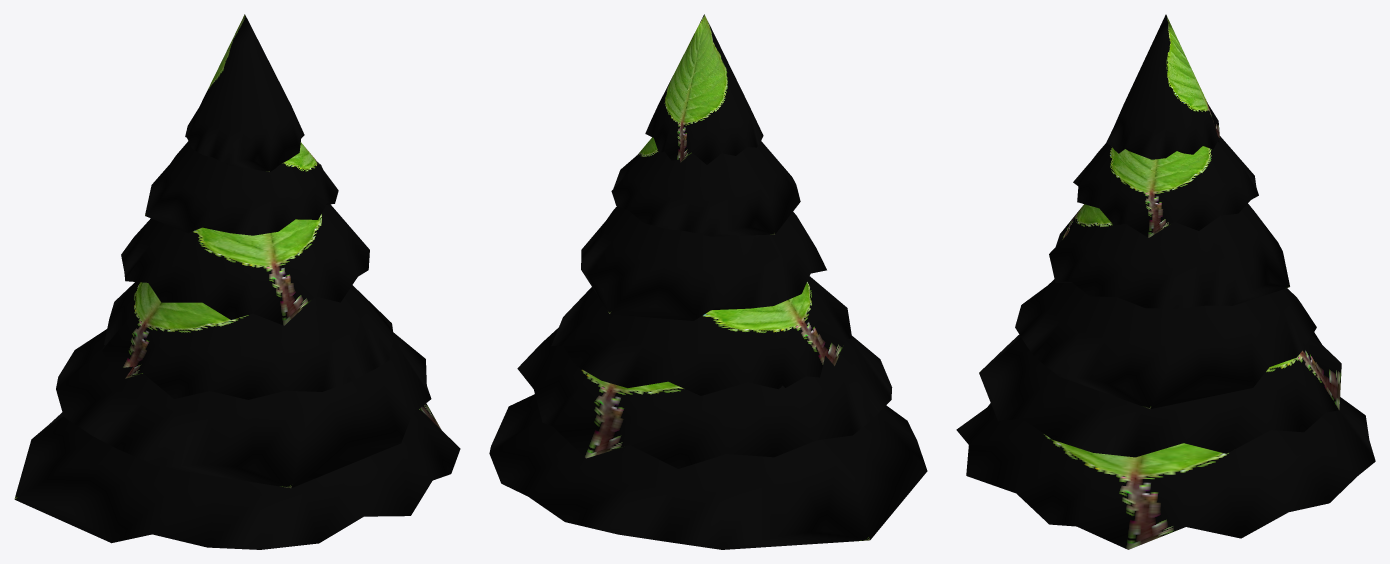
File: Christmas Tree.obj
3 views of the same model, side by side, from view 1: azimuth 30°, elevation 25°; view 2: azimuth 150°, elevation 25°; view 3: azimuth 270°, elevation 25° (orthographic). The views are drawn at different scales.
Parts seen in each view (by area): view 1: Cone006, Cone005, Cone004, Cone003, Cone002, Cone001; view 2: Cone006, Cone005, Cone004, Cone003, Cone002, Cone001; view 3: Cone006, Cone004, Cone005, Cone003, Cone002, Cone001.
Part boxes in pixels (x1,y1,x2,y2): Cone006: (14,403,460,549); Cone005: (56,329,431,488); Cone004: (102,282,393,399); Cone003: (121,204,369,325); Cone002: (145,141,338,235); Cone001: (185,14,304,171); Cone006: (489,394,927,549); Cone005: (517,328,892,468); Cone004: (551,276,851,395); Cone003: (581,206,826,320); Cone002: (611,137,800,236); Cone001: (645,14,763,164); Cone006: (956,397,1375,549); Cone004: (1015,279,1316,409); Cone005: (979,332,1341,457); Cone003: (1049,203,1289,308); Cone002: (1073,136,1258,237); Cone001: (1106,14,1219,159).
Size of the model in its own units: 24.05 by 29.46 by 23.19.
2 materials, 2 textured.
